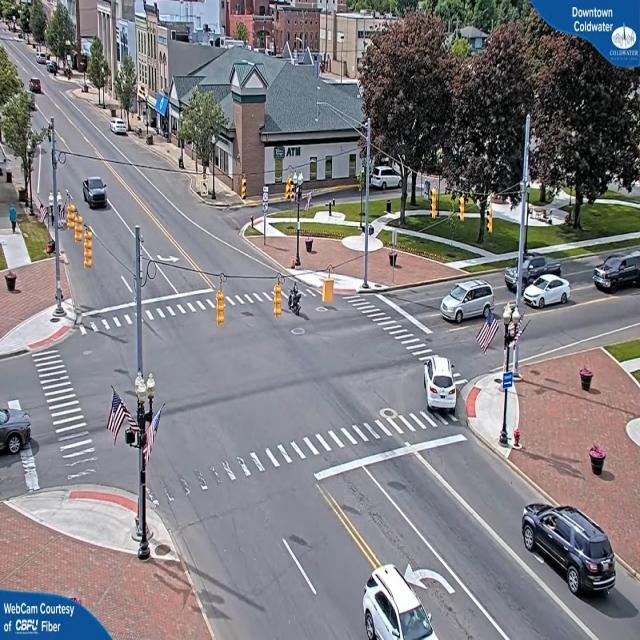car: (522, 506, 619, 600), (362, 566, 444, 639), (441, 278, 496, 327), (592, 251, 640, 295), (522, 270, 571, 308), (0, 402, 32, 459), (83, 178, 109, 210), (112, 120, 129, 136), (30, 80, 43, 95)
motorbike: (288, 283, 304, 319)
